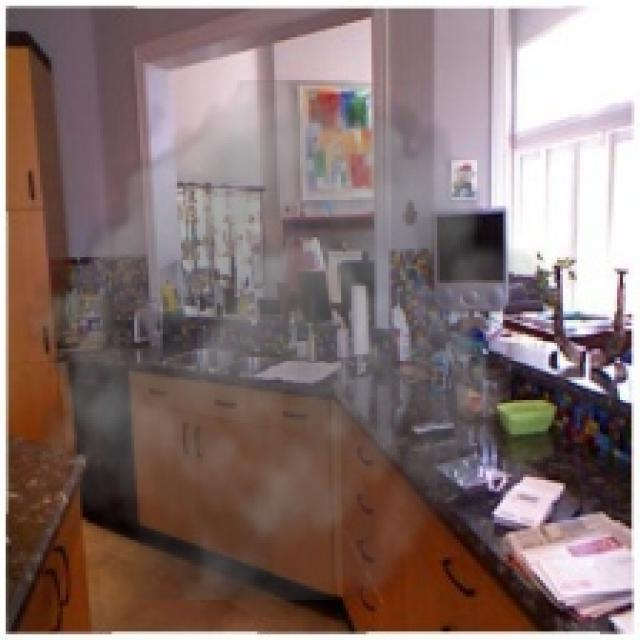Smoke: (14, 80, 540, 600)
